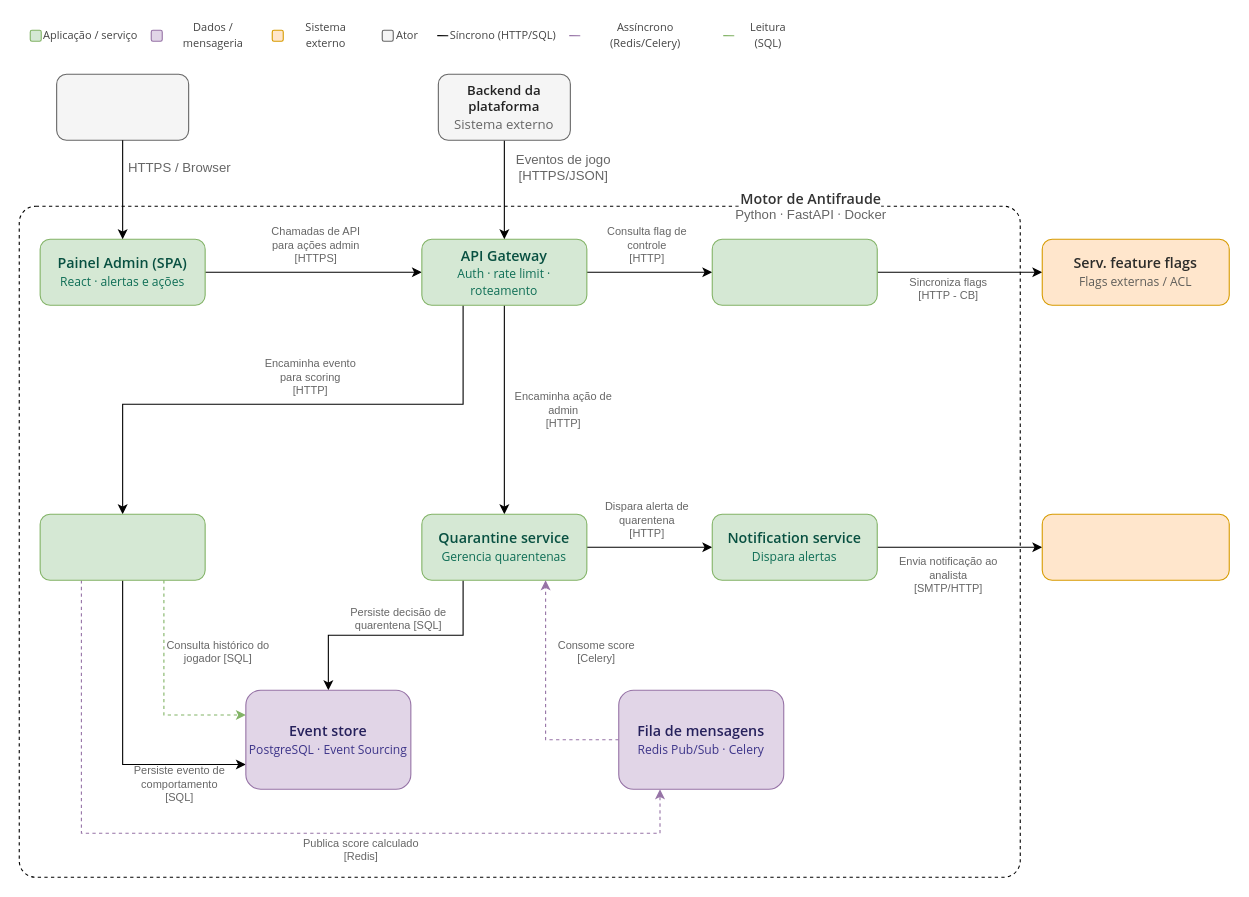
This 1249x897 diagram has some shape labels left out. The shapes that lost their labels are listed below. From the top down, each one's centre as x and y in pixels, then its label:
At [122,106]: "Analista / Admin Usuário interno".
At [794,271]: "Feature flag service ACL · cache em memória".
At [122,546]: "Scoring service Calcula risk score".
At [1135,546]: "Notificações E-mail / webhook".
